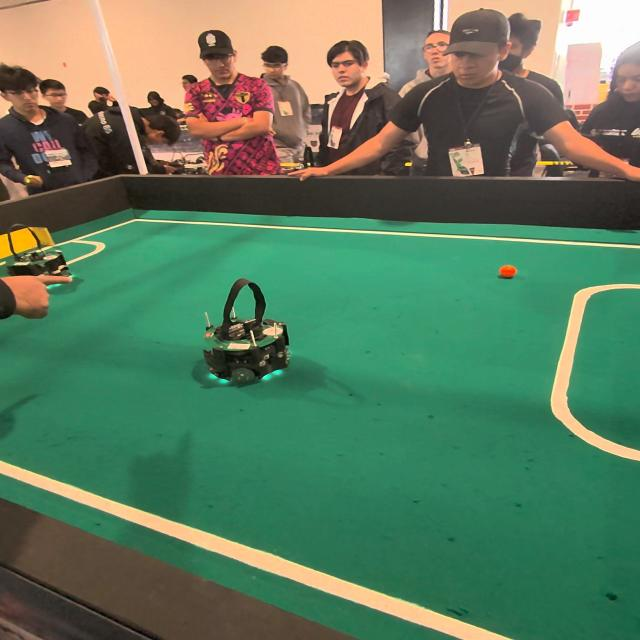Robot: (192, 274, 299, 398), (0, 222, 77, 295)
pelota: (494, 262, 526, 285)
